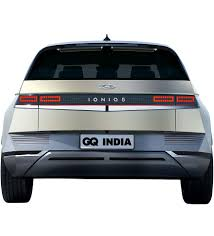Honda Ioniq: (1, 26, 213, 221)
